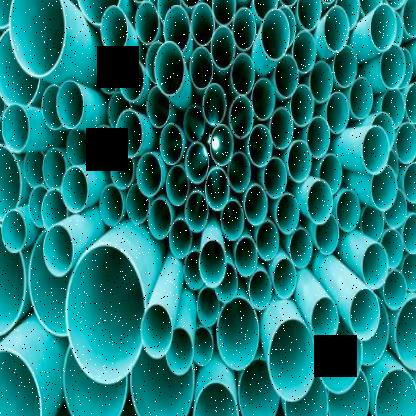pipe: (65, 242, 146, 384), (130, 346, 196, 416), (63, 344, 127, 416), (8, 0, 65, 77), (28, 228, 68, 337), (268, 318, 317, 401), (315, 315, 362, 394), (216, 296, 260, 370), (0, 228, 28, 339), (0, 29, 40, 106), (0, 347, 43, 416), (236, 356, 279, 416), (327, 369, 370, 416), (284, 371, 328, 416), (375, 368, 416, 416), (141, 303, 173, 358), (0, 144, 22, 222), (154, 41, 185, 96), (394, 295, 416, 371), (192, 380, 238, 416), (43, 224, 74, 276), (350, 288, 380, 341), (261, 9, 290, 61), (100, 5, 128, 54), (166, 327, 194, 376), (115, 110, 143, 158), (311, 296, 339, 344), (2, 103, 29, 152), (56, 80, 83, 129), (362, 126, 389, 174), (199, 240, 226, 288), (370, 3, 396, 52), (62, 166, 88, 214), (163, 5, 190, 51), (371, 165, 397, 211), (362, 242, 388, 288), (380, 43, 405, 90), (324, 6, 349, 52), (119, 56, 144, 102), (307, 180, 332, 224), (274, 54, 299, 98), (42, 189, 68, 231), (137, 152, 161, 197), (99, 184, 124, 227), (229, 96, 254, 139), (205, 166, 229, 210), (2, 209, 26, 253), (211, 26, 235, 70), (287, 140, 312, 182), (306, 116, 330, 159), (191, 3, 215, 46), (231, 53, 255, 96), (349, 76, 373, 119), (202, 83, 226, 126), (42, 148, 67, 189), (190, 46, 213, 90), (159, 124, 183, 166), (210, 124, 234, 166), (263, 157, 287, 199), (383, 187, 407, 229), (336, 190, 360, 232), (135, 2, 159, 44), (273, 258, 297, 300), (309, 61, 333, 103), (290, 85, 314, 127), (270, 107, 293, 150), (293, 30, 316, 73), (334, 45, 357, 88), (97, 50, 120, 93), (252, 78, 275, 121), (276, 193, 300, 234), (148, 199, 172, 240), (315, 214, 339, 255), (383, 269, 407, 310), (381, 88, 405, 129), (249, 125, 272, 167), (92, 125, 115, 167), (185, 142, 208, 184), (244, 184, 267, 226), (215, 262, 238, 304), (233, 8, 256, 50), (147, 86, 170, 128), (326, 92, 349, 134), (319, 154, 343, 194), (166, 166, 190, 206), (42, 84, 63, 129), (111, 148, 134, 189), (185, 191, 208, 232), (221, 200, 244, 241), (289, 228, 312, 269), (381, 228, 403, 270), (228, 152, 251, 192), (169, 218, 192, 258), (256, 221, 279, 261), (249, 270, 272, 310), (108, 92, 132, 130), (127, 184, 149, 225), (197, 287, 220, 326), (395, 121, 416, 163), (67, 128, 90, 166), (235, 237, 257, 276), (183, 105, 205, 143), (361, 206, 384, 241), (184, 250, 204, 290), (193, 327, 213, 366), (29, 186, 48, 227), (297, 0, 321, 31), (24, 151, 44, 187), (336, 0, 359, 30), (401, 213, 416, 255), (212, 0, 236, 26), (402, 161, 416, 205), (401, 0, 416, 39), (401, 254, 416, 291), (403, 82, 416, 124), (253, 0, 278, 19)
